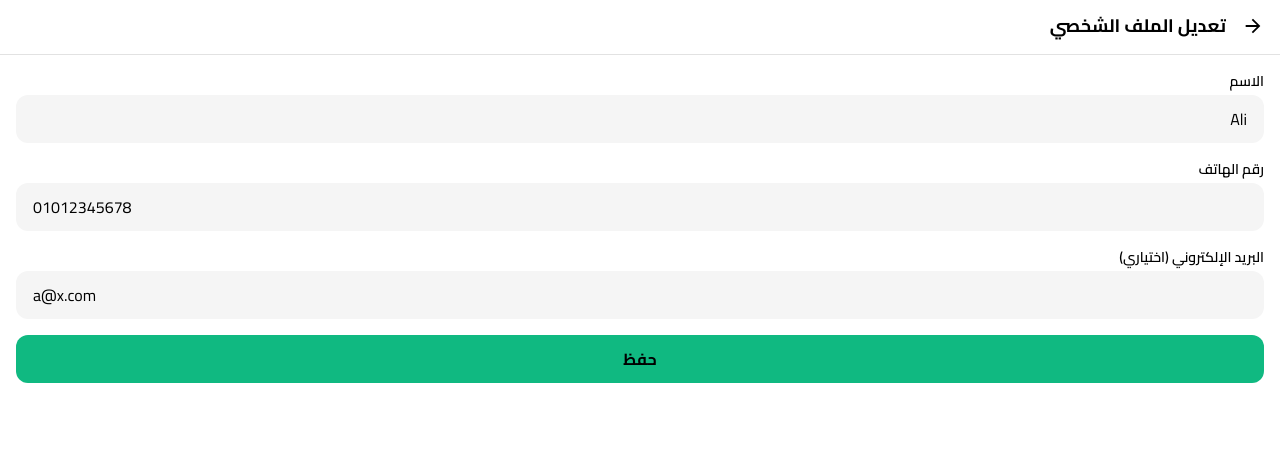
Scenario: EditProfile › shows the server's message when the phone is taken
This screenshot has width=1280, height=458.
Replace the text in the field labelled "الاسم" with "Omar": (640, 119) [16,95,1264,143]
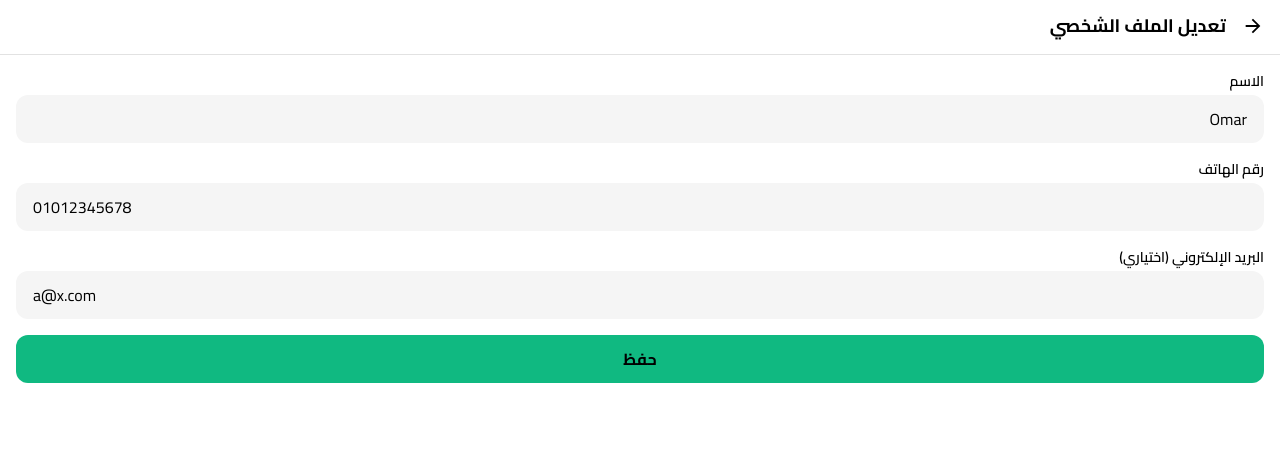
Click the button "حفظ": (640, 359) [16,335,1264,383]
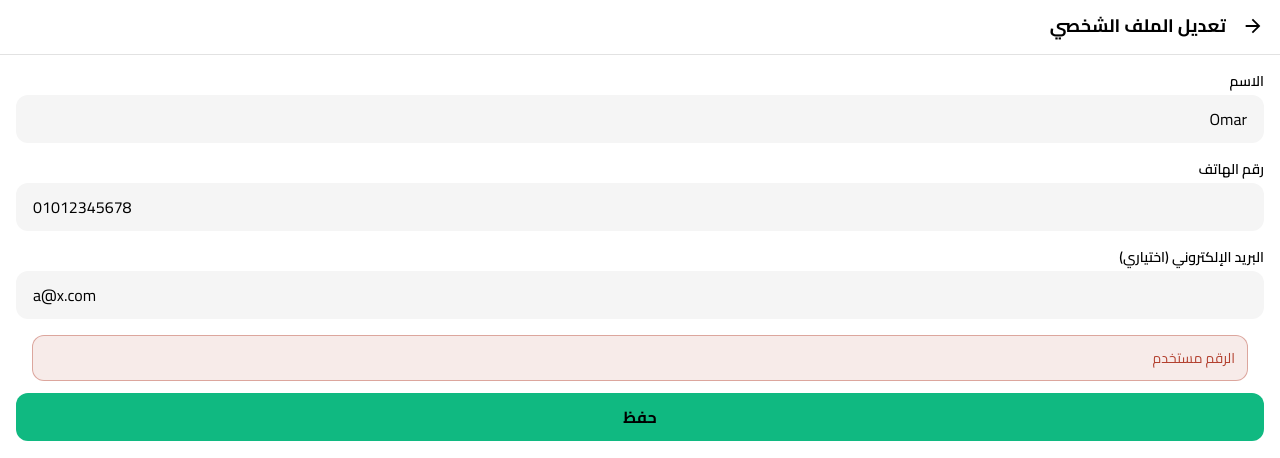
Now the text "الرقم مستخدم" is shown, box [1152,345,1235,371]
